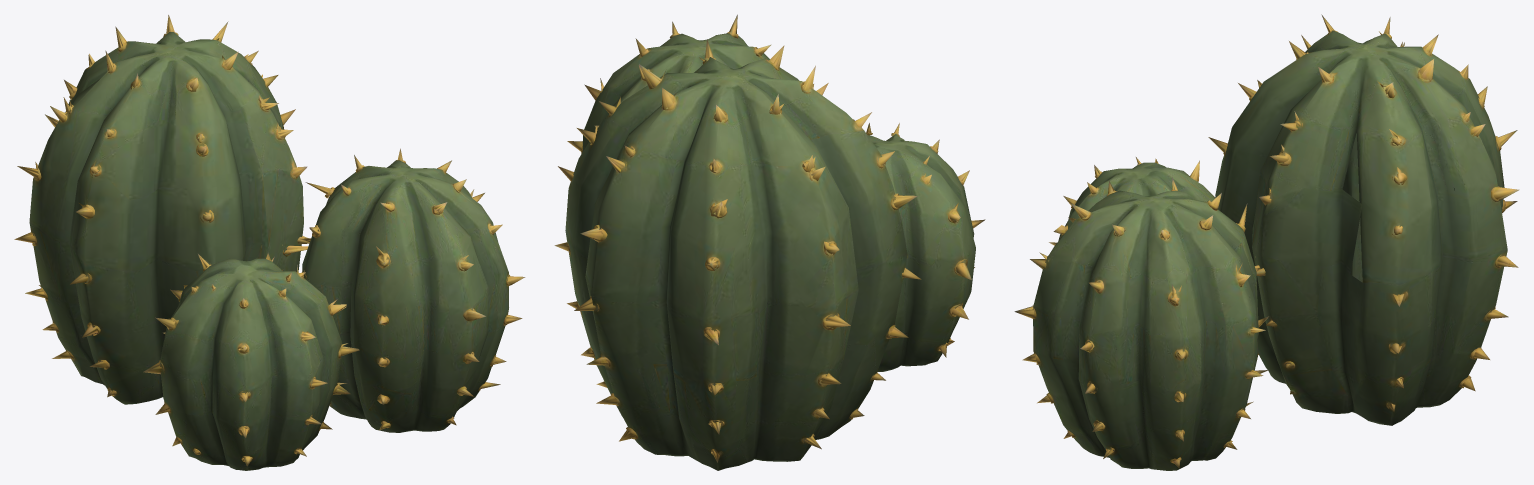
File: cactus_c.glb
3 views of the same model, side by side, from view 1: azimuth 30°, elevation 25°; view 2: azimuth 150°, elevation 25°; view 3: azimuth 270°, elevation 25° (orthographic). The views are drawn at different scales.
Visible parts, largest first — view 1: geometry_0; view 2: geometry_0; view 3: geometry_0.
Part boxes in pixels (left/top/right/bottom): geometry_0: left=14, top=15, right=525, bottom=470; geometry_0: left=554, top=14, right=985, bottom=470; geometry_0: left=1014, top=14, right=1519, bottom=470.
Size of the model in its own units: 0.8472 by 0.7075 by 0.9536.
Materials: 1 (1 with a texture image).
